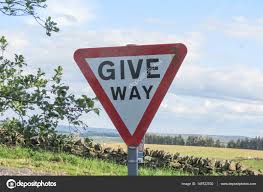giveway: (73, 48, 191, 148), (71, 40, 190, 81), (85, 85, 178, 133), (84, 43, 125, 122), (140, 42, 176, 128)
